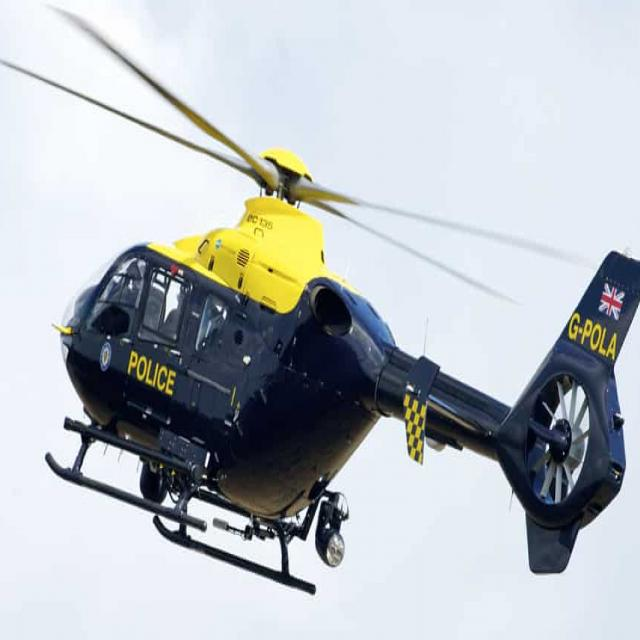helicopter: (1, 8, 640, 596)
